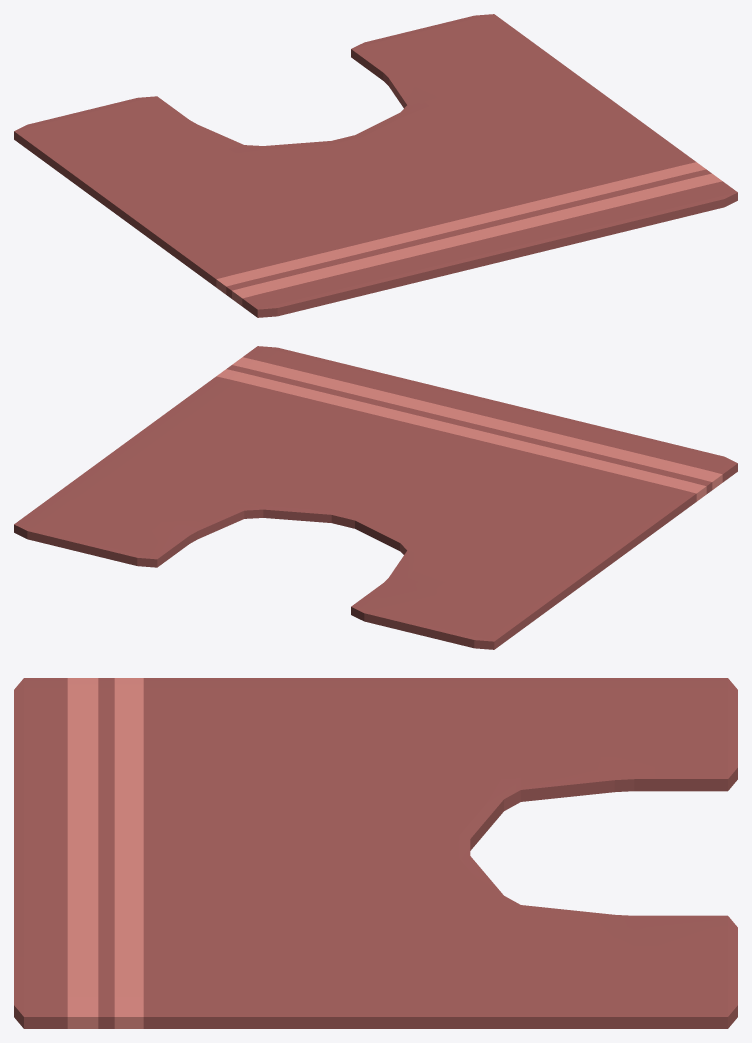
The model's file is Bathroom_Rug1.fbx.
The picture shows the model from 3 angles, top to bottom: view 1: azimuth 30°, elevation 25°; view 2: azimuth 150°, elevation 25°; view 3: azimuth 270°, elevation 25°; orthographic projection. The views are drawn at different scales.
Visible parts, largest first — view 1: Bathroom_Rug1.001, Bathroom_Rug1; view 2: Bathroom_Rug1.001, Bathroom_Rug1; view 3: Bathroom_Rug1.001, Bathroom_Rug1.
Boxes of the visible parts, box(x1,y1,x2,y2) form: Bathroom_Rug1.001: box(14, 14, 737, 317); Bathroom_Rug1: box(216, 162, 722, 306); Bathroom_Rug1.001: box(14, 346, 737, 649); Bathroom_Rug1: box(216, 357, 722, 501); Bathroom_Rug1.001: box(14, 678, 737, 1028); Bathroom_Rug1: box(67, 678, 143, 1028).
Size of the model in its own units: 94.68 by 1.65 by 85.52.
